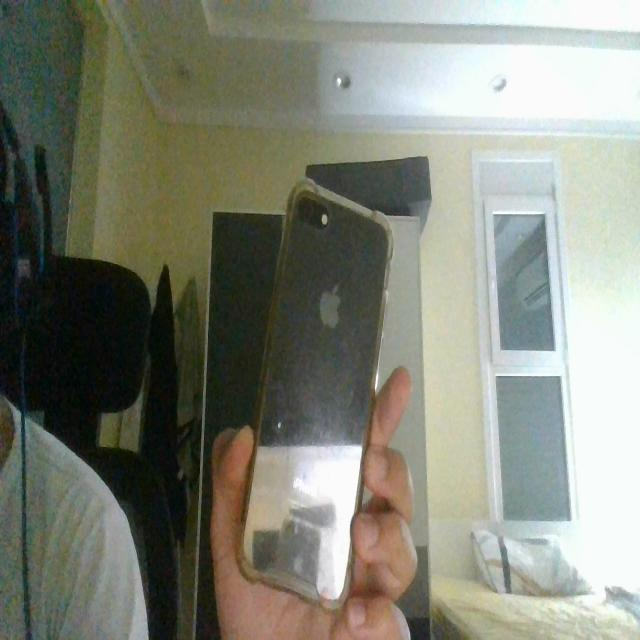Phone: (234, 175, 396, 612)
